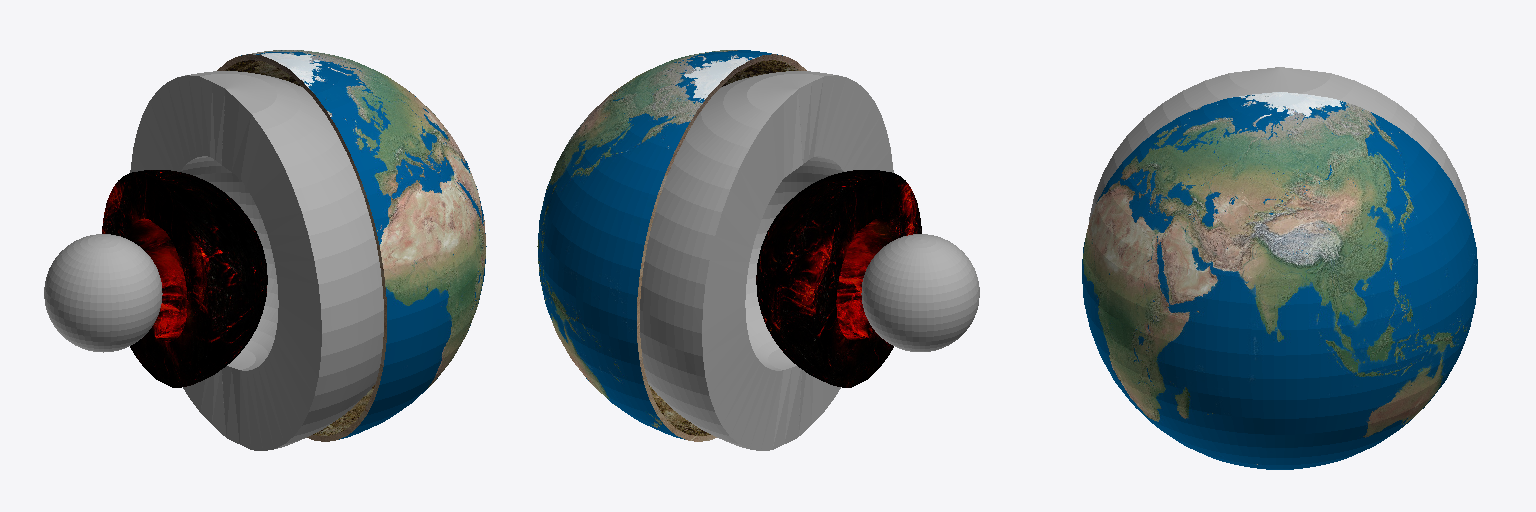
The picture shows the model from 3 angles: view 1: azimuth 30°, elevation 25°; view 2: azimuth 150°, elevation 25°; view 3: azimuth 270°, elevation 25°; orthographic projection.
Visible parts, largest first — view 1: Object_Material_2_4, Object_Material.006_0, Object_Materia_3_6, Object_Material_4_2; view 2: Object_Material_2_4, Object_Material.006_0, Object_Materia_3_6, Object_Material_4_2; view 3: Object_Material.006_0, Object_Material_2_4.
Boxes of the visible parts, x1,y1,x2,y2 form: Object_Material_2_4: [130, 71, 383, 450]; Object_Material.006_0: [217, 50, 486, 441]; Object_Materia_3_6: [102, 170, 267, 387]; Object_Material_4_2: [44, 234, 162, 352]; Object_Material_2_4: [640, 71, 893, 450]; Object_Material.006_0: [537, 50, 806, 441]; Object_Materia_3_6: [756, 170, 921, 387]; Object_Material_4_2: [861, 234, 979, 351]; Object_Material.006_0: [1082, 92, 1477, 469]; Object_Material_2_4: [1089, 67, 1470, 221].
Size of the model in its own units: 2.5 by 2.11 by 2.11.
Materials: 4 (2 with a texture image).